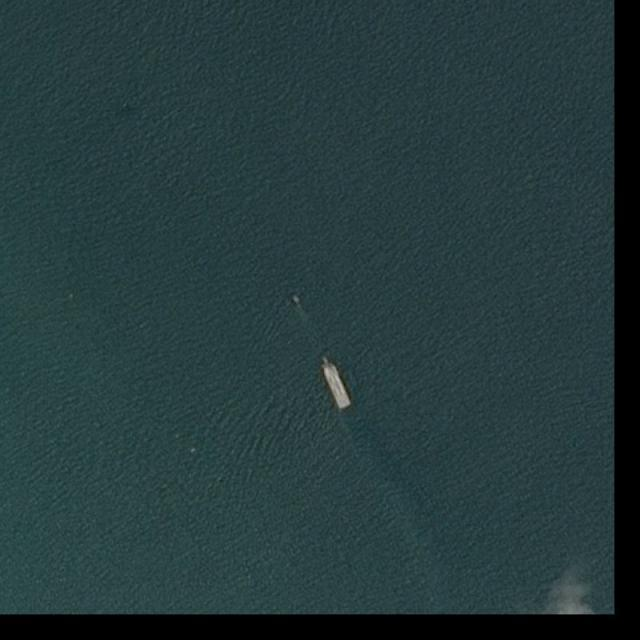ship: (322, 354, 350, 409), (291, 294, 300, 304)
